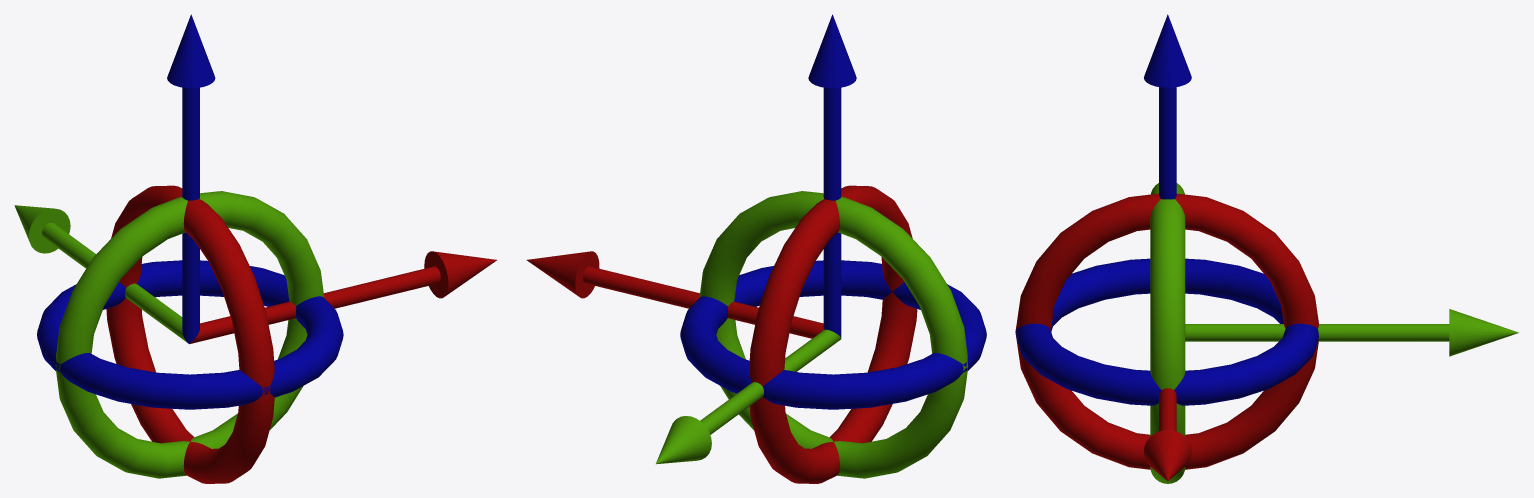
The model's file is All_axis.glb.
3 renders of one model, left to right at view 1: azimuth 30°, elevation 25°; view 2: azimuth 150°, elevation 25°; view 3: azimuth 270°, elevation 25°, orthographic.
Parts seen in each view (by area): view 1: R_Y, R_Z, R_X, X, z, Y; view 2: R_Y, R_Z, R_X, X, z, Y; view 3: R_Z, R_X, R_Y, Y, X, z.
Part boxes in pixels (x1,y1,x2,y2): R_Y: [55, 191, 324, 478]; R_Z: [106, 185, 274, 483]; R_X: [37, 260, 343, 409]; X: [167, 14, 215, 343]; z: [189, 251, 496, 344]; Y: [14, 205, 187, 342]; R_Y: [699, 191, 967, 478]; R_Z: [749, 185, 917, 483]; R_X: [680, 260, 986, 409]; X: [808, 14, 856, 337]; z: [526, 251, 823, 338]; Y: [656, 329, 841, 464]; R_Z: [1015, 193, 1318, 469]; R_X: [1015, 258, 1318, 405]; R_Y: [1150, 183, 1185, 483]; Y: [1185, 309, 1518, 356]; X: [1144, 14, 1191, 199]; z: [1143, 388, 1191, 480].
Size of the model in its own units: 4.38 by 4.37 by 4.37.
